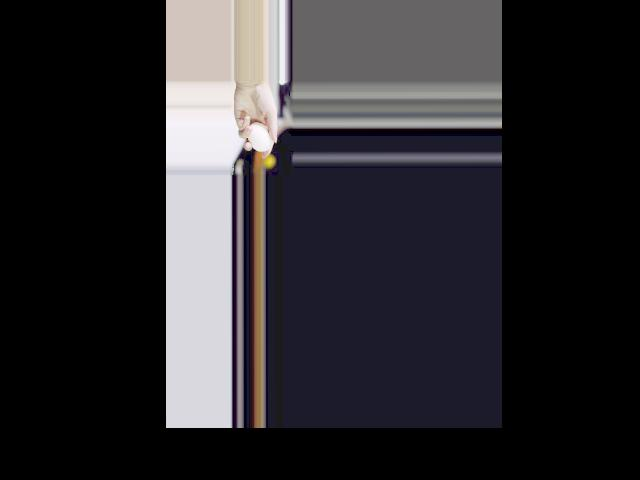egg: (247, 122, 271, 152)
